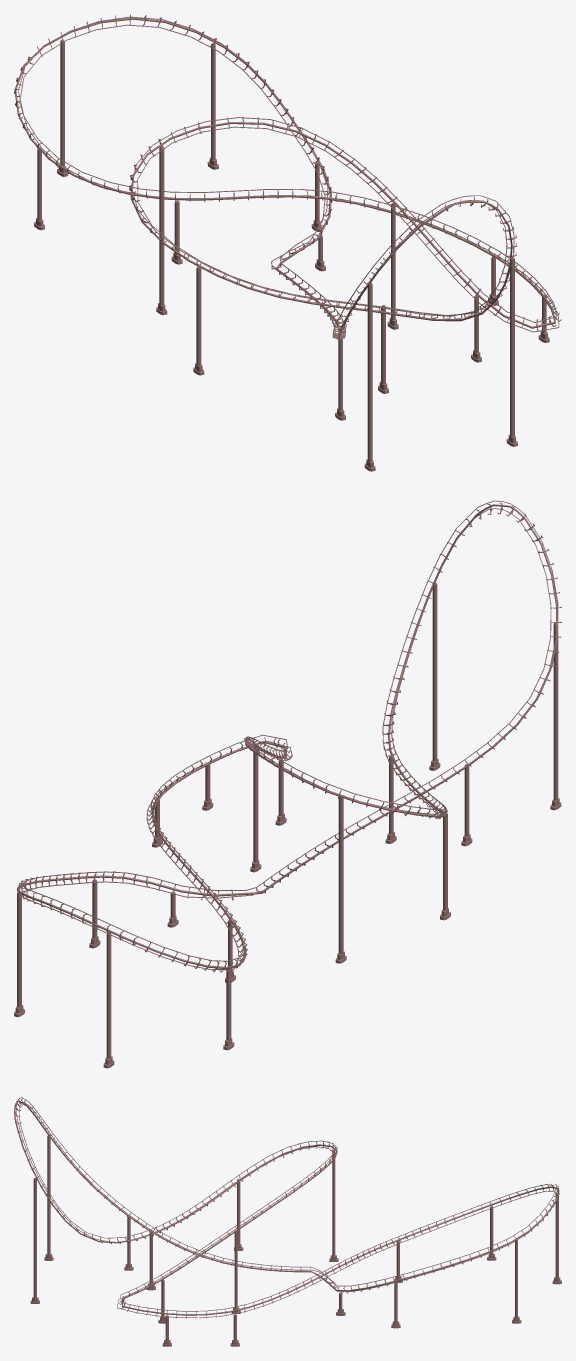
The model's file is RollarCoaster.fbx.
3 renders of one model, top to bottom at view 1: azimuth 30°, elevation 25°; view 2: azimuth 150°, elevation 25°; view 3: azimuth 270°, elevation 25°, orthographic. The views are drawn at different scales.
Visible parts, largest first — view 1: RollerCoaster; view 2: RollerCoaster; view 3: RollerCoaster.
Part boxes in pixels (x1,y1,x2,y2): RollerCoaster: (14,14,561,471); RollerCoaster: (14,500,561,1068); RollerCoaster: (14,1097,561,1346).
Bounding box in the file's own units: 7645 × 6113 × 16618.
